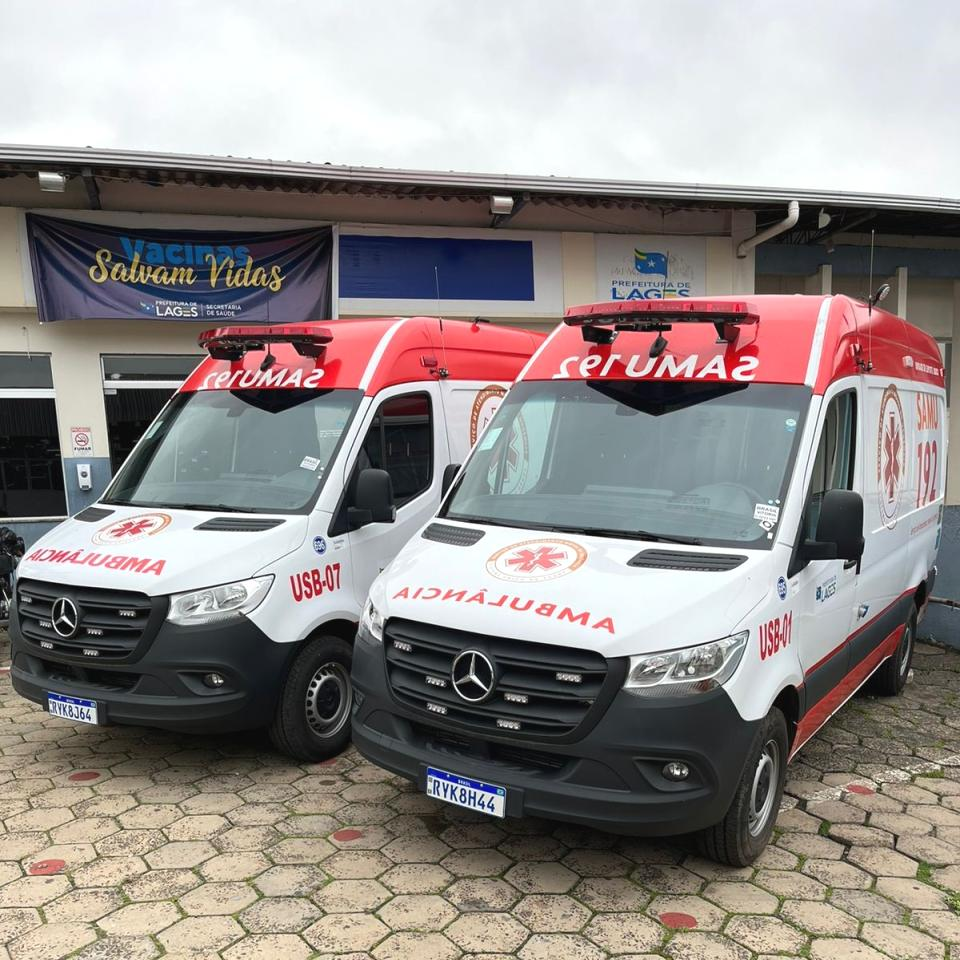ambulancia: (344, 295, 947, 865), (8, 316, 553, 760)
